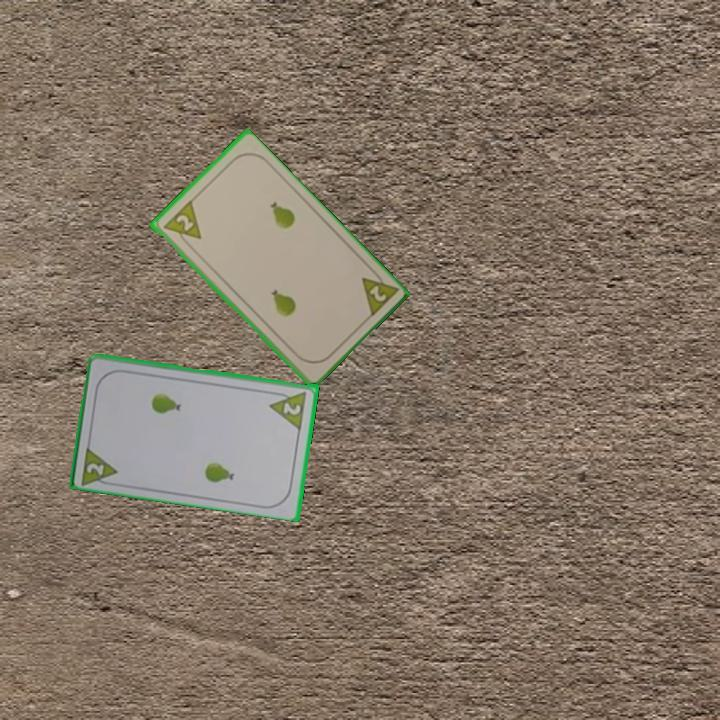2p: (357, 264, 400, 321), (159, 198, 204, 251), (280, 398, 304, 418), (83, 459, 107, 478)
